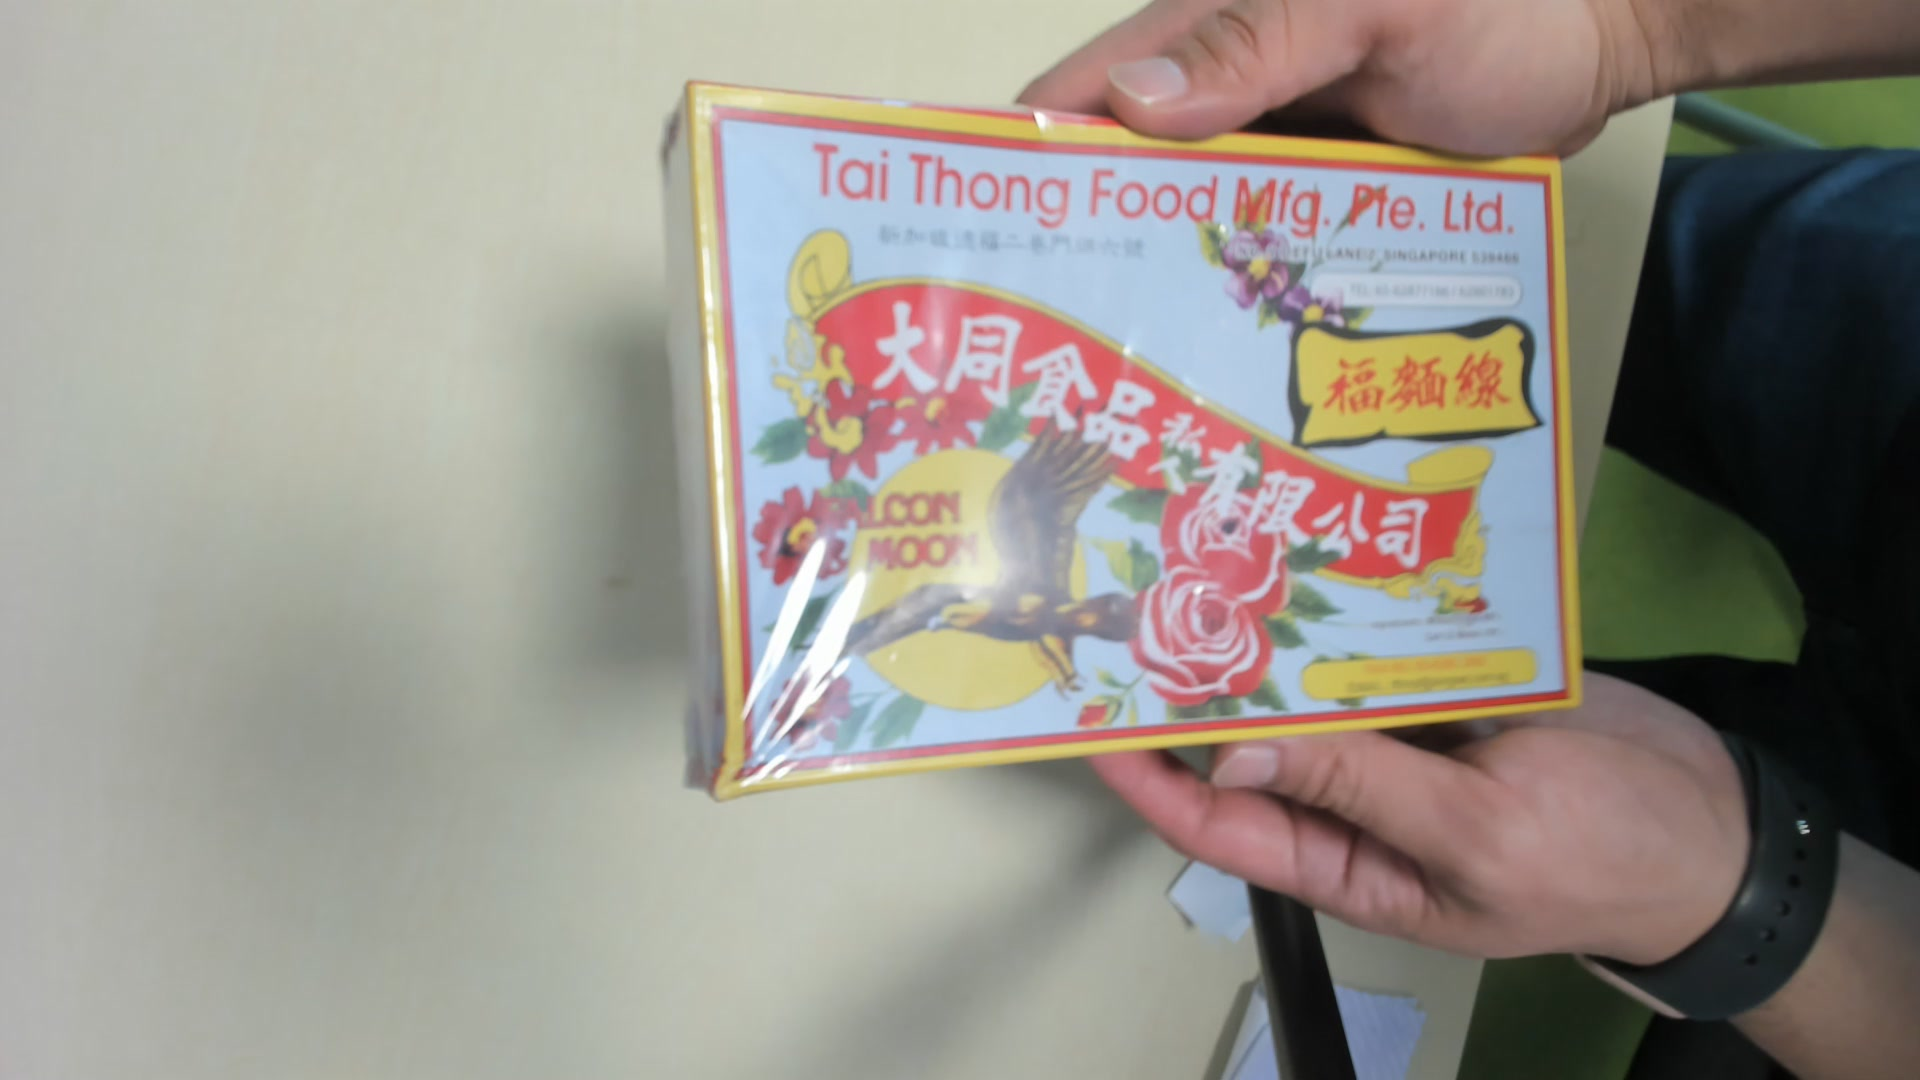BeeHoonVermicelli_0-99g_NonHalal_NonHealthy: (651, 76, 1589, 794)
